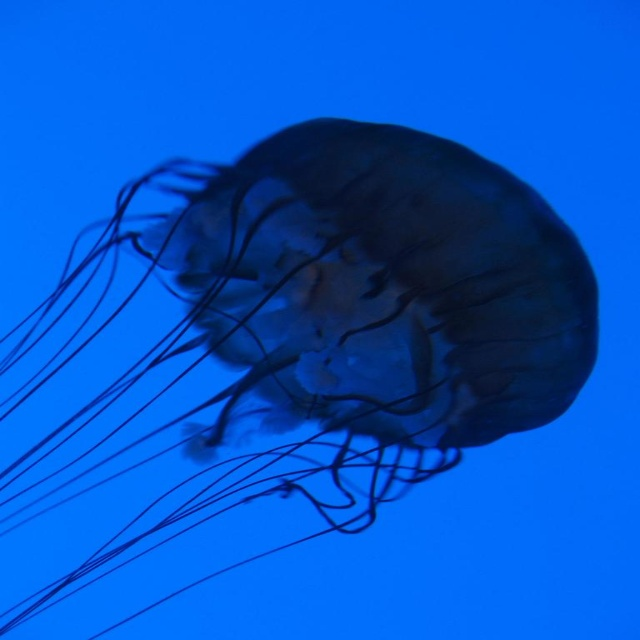Jellyfish: (13, 80, 615, 634)
